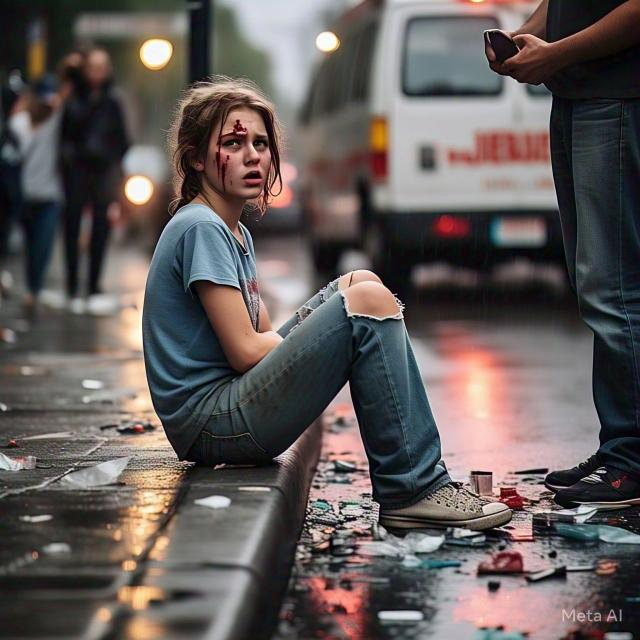injury: (175, 85, 277, 207), (212, 139, 230, 189), (230, 117, 248, 134)
